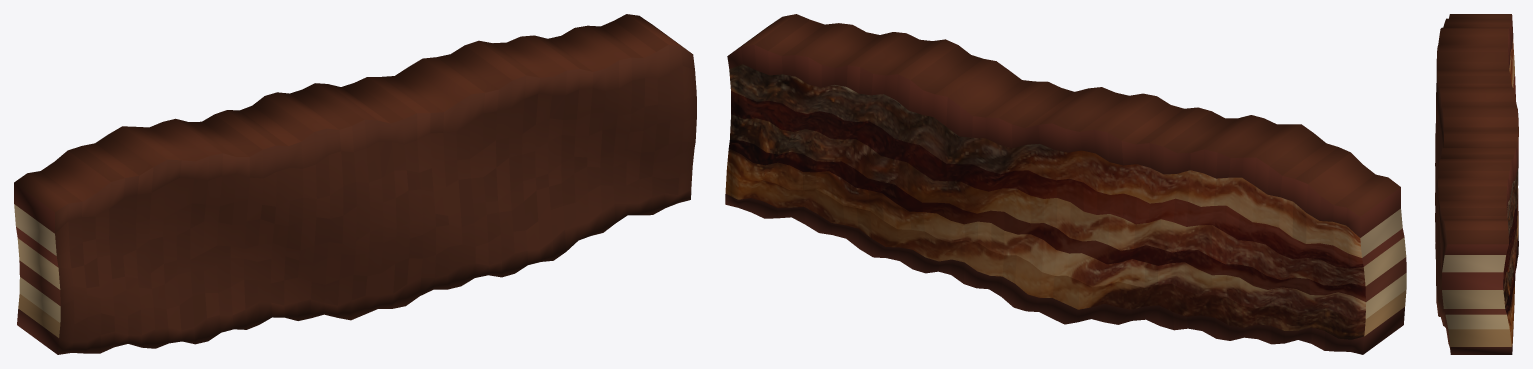
The model's file is Model_CuredPork.glb.
The picture shows the model from 3 angles, left to right: view 1: azimuth 30°, elevation 25°; view 2: azimuth 150°, elevation 25°; view 3: azimuth 270°, elevation 25°; orthographic projection. The views are drawn at different scales.
Parts seen in each view (by area): view 1: Model_CuredPorkWhole; view 2: Model_CuredPorkWhole; view 3: Model_CuredPorkWhole.
Boxes of the visible parts, left/top/right/bottom form: Model_CuredPorkWhole: left=14, top=14, right=696, bottom=354; Model_CuredPorkWhole: left=725, top=14, right=1406, bottom=354; Model_CuredPorkWhole: left=1435, top=14, right=1518, bottom=354.
Bounding box in the file's own units: 0.28 × 0.0874 × 0.0425.
2 materials, 1 textured.
